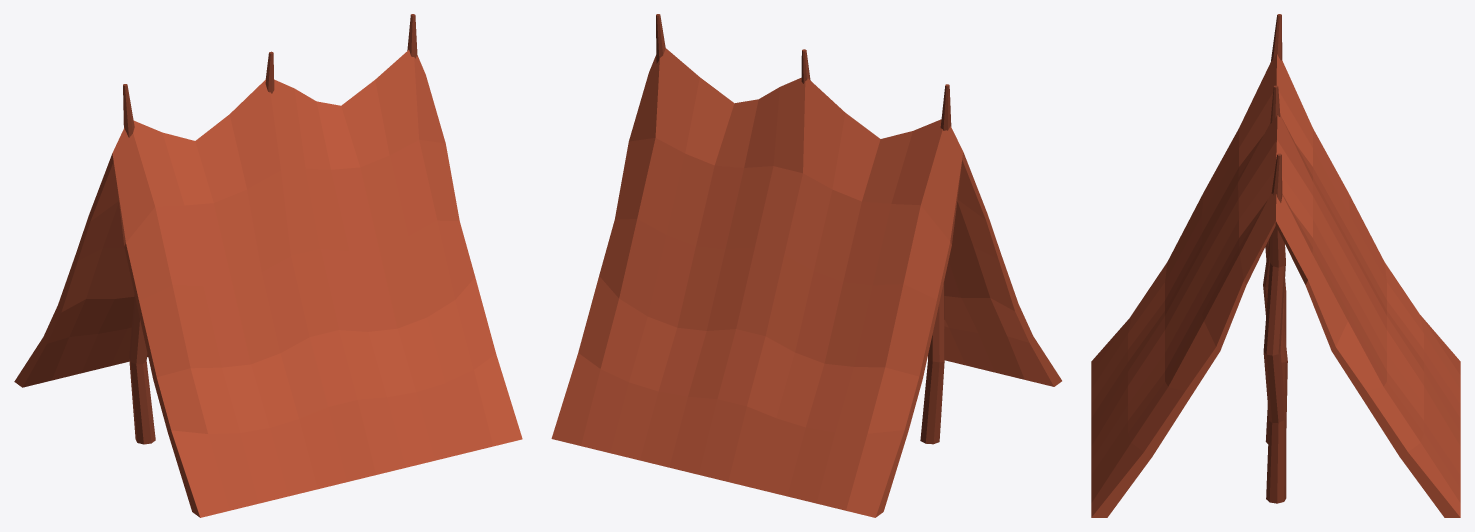
The model's file is Tent.fbx.
The picture shows the model from 3 angles, left to right: view 1: azimuth 30°, elevation 25°; view 2: azimuth 150°, elevation 25°; view 3: azimuth 270°, elevation 25°; orthographic projection.
Visible parts, largest first — view 1: Cube.005; view 2: Cube.005; view 3: Cube.005.
Part boxes in pixels (bbox=[...]): Cube.005: bbox=[14, 14, 522, 517]; Cube.005: bbox=[551, 14, 1061, 517]; Cube.005: bbox=[1091, 14, 1460, 517].
Bounding box in the file's own units: 861 × 921 × 861.
